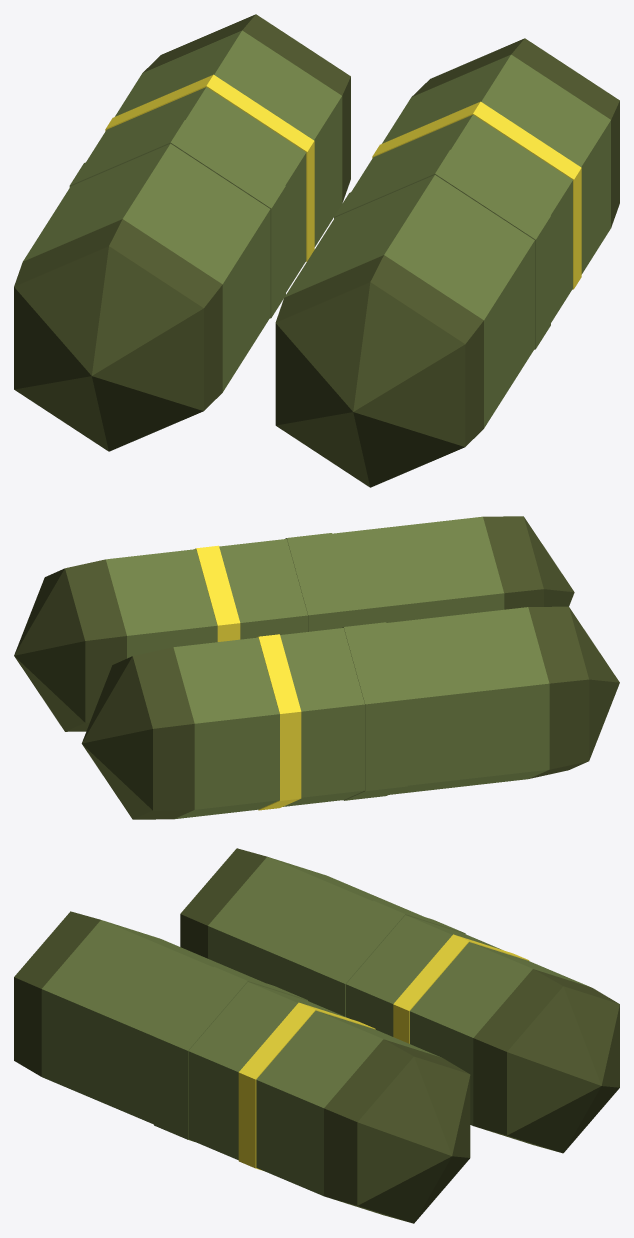
Rendered from ce_ammo2_smaw_heat_b.obj.
The picture shows the model from 3 angles, top to bottom: view 1: azimuth 30°, elevation 25°; view 2: azimuth 150°, elevation 25°; view 3: azimuth 270°, elevation 25°; orthographic projection. The views are drawn at different scales.
Visible parts, largest first — view 1: ce_ammo2_smaw_heat_b_9, ce_ammo2_smaw_heat_b_0, ce_ammo2_smaw_heat_b_11, ce_ammo2_smaw_heat_b_2, ce_ammo2_smaw_heat_b_15, ce_ammo2_smaw_heat_b_6, ce_ammo2_smaw_heat_b_13, ce_ammo2_smaw_heat_b_4, ce_ammo2_smaw_heat_b_1, ce_ammo2_smaw_heat_b_10, ce_ammo2_smaw_heat_b_12, ce_ammo2_smaw_heat_b_3 (+4 smaller); view 2: ce_ammo2_smaw_heat_b_2, ce_ammo2_smaw_heat_b_6, ce_ammo2_smaw_heat_b_11, ce_ammo2_smaw_heat_b_4, ce_ammo2_smaw_heat_b_15, ce_ammo2_smaw_heat_b_3, ce_ammo2_smaw_heat_b_17, ce_ammo2_smaw_heat_b_8, ce_ammo2_smaw_heat_b_7, ce_ammo2_smaw_heat_b_1, ce_ammo2_smaw_heat_b_13, ce_ammo2_smaw_heat_b_16 (+6 smaller); view 3: ce_ammo2_smaw_heat_b_11, ce_ammo2_smaw_heat_b_17, ce_ammo2_smaw_heat_b_8, ce_ammo2_smaw_heat_b_2, ce_ammo2_smaw_heat_b_15, ce_ammo2_smaw_heat_b_13, ce_ammo2_smaw_heat_b_6, ce_ammo2_smaw_heat_b_12, ce_ammo2_smaw_heat_b_7, ce_ammo2_smaw_heat_b_16, ce_ammo2_smaw_heat_b_4, ce_ammo2_smaw_heat_b_10 (+4 smaller).
Part boxes in pixels (x1,y1,x2,y2): ce_ammo2_smaw_heat_b_9: (275,282,465,487); ce_ammo2_smaw_heat_b_0: (14,246,203,451); ce_ammo2_smaw_heat_b_11: (284,175,534,428); ce_ammo2_smaw_heat_b_2: (23,143,270,392); ce_ammo2_smaw_heat_b_15: (382,54,610,274); ce_ammo2_smaw_heat_b_6: (115,30,342,246); ce_ammo2_smaw_heat_b_13: (351,115,572,322); ce_ammo2_smaw_heat_b_4: (86,87,306,292); ce_ammo2_smaw_heat_b_1: (14,219,222,410); ce_ammo2_smaw_heat_b_10: (275,255,483,446); ce_ammo2_smaw_heat_b_12: (334,150,550,349); ce_ammo2_smaw_heat_b_3: (69,120,285,318); ce_ammo2_smaw_heat_b_2: (386,607,549,794); ce_ammo2_smaw_heat_b_6: (173,637,279,819); ce_ammo2_smaw_heat_b_11: (332,516,504,625); ce_ammo2_smaw_heat_b_4: (280,628,364,806); ce_ammo2_smaw_heat_b_15: (106,549,217,658); ce_ammo2_smaw_heat_b_3: (342,622,407,800); ce_ammo2_smaw_heat_b_17: (14,568,85,731); ce_ammo2_smaw_heat_b_8: (81,656,152,819); ce_ammo2_smaw_heat_b_7: (132,647,194,819); ce_ammo2_smaw_heat_b_1: (528,606,589,778); ce_ammo2_smaw_heat_b_13: (219,539,307,639); ce_ammo2_smaw_heat_b_16: (65,559,126,731); ce_ammo2_smaw_heat_b_11: (41,920,263,1124); ce_ammo2_smaw_heat_b_17: (357,1056,470,1223); ce_ammo2_smaw_heat_b_8: (507,986,619,1153); ce_ammo2_smaw_heat_b_2: (208,856,421,1002); ce_ammo2_smaw_heat_b_15: (256,1010,441,1196); ce_ammo2_smaw_heat_b_13: (188,982,348,1159); ce_ammo2_smaw_heat_b_6: (409,942,590,1125); ce_ammo2_smaw_heat_b_12: (154,967,307,1141); ce_ammo2_smaw_heat_b_7: (473,969,618,1151); ce_ammo2_smaw_heat_b_16: (324,1039,469,1222); ce_ammo2_smaw_heat_b_4: (346,915,501,1036); ce_ammo2_smaw_heat_b_10: (14,911,100,1076).
Bounding box in the file's own units: 0.5614 × 0.1818 × 0.5614.
